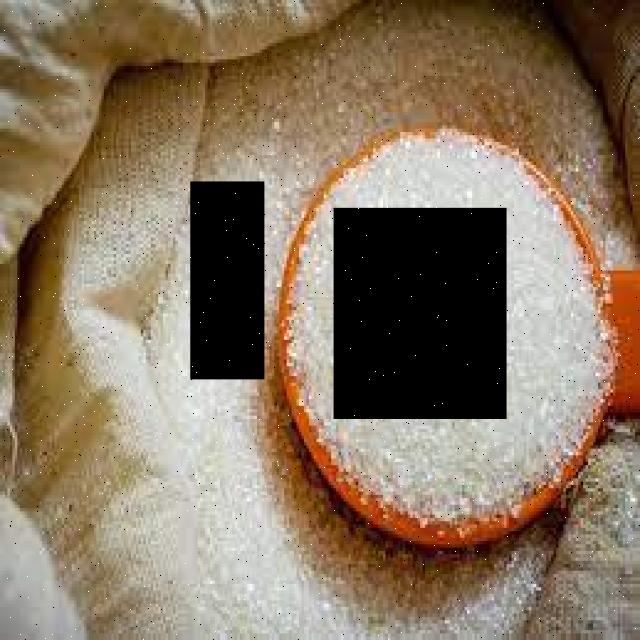Sugar: (335, 210, 507, 422), (192, 182, 266, 379)
